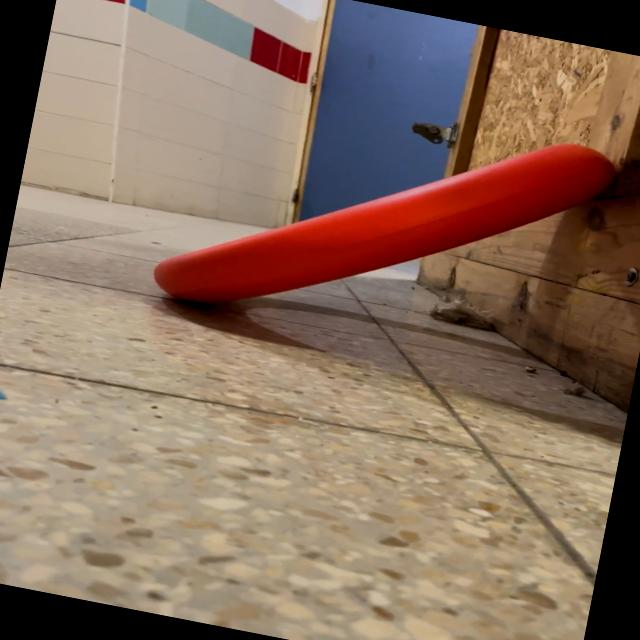note: (145, 67, 626, 382)
